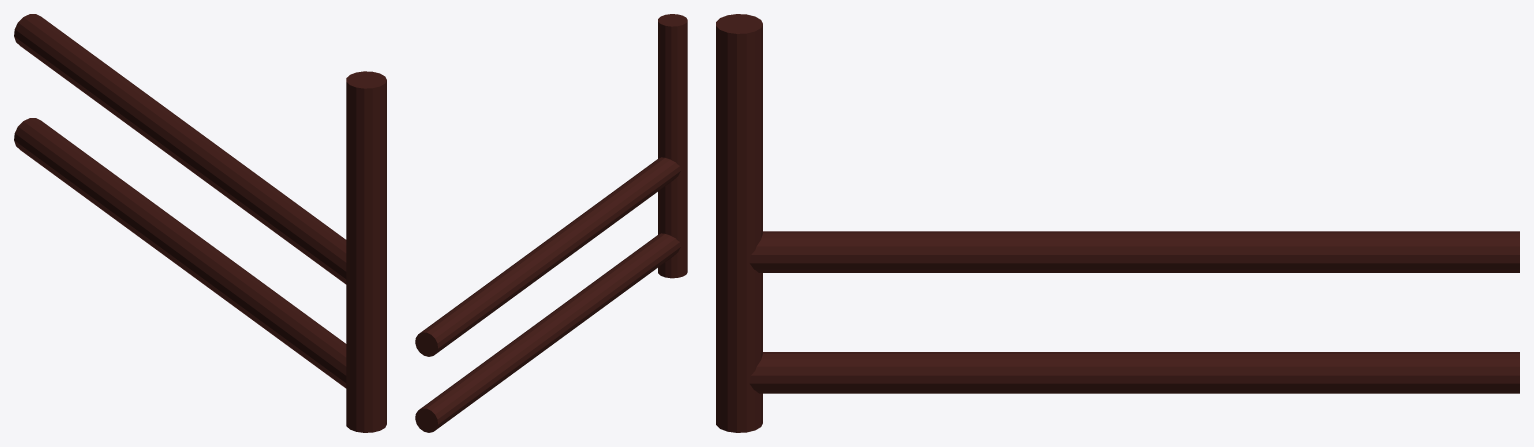
File: Jump Fence.fbx
The picture shows the model from 3 angles, left to right: view 1: azimuth 30°, elevation 25°; view 2: azimuth 150°, elevation 25°; view 3: azimuth 270°, elevation 25°; orthographic projection. The views are drawn at different scales.
Parts seen in each view (by area): view 1: Jump Fence; view 2: Jump Fence; view 3: Jump Fence.
Part boxes in pixels (x1,y1,x2,y2): Jump Fence: (14, 14, 386, 432); Jump Fence: (415, 14, 687, 432); Jump Fence: (716, 14, 1519, 432).
Bounding box in the file's own units: 75.19 × 701 × 1279.
